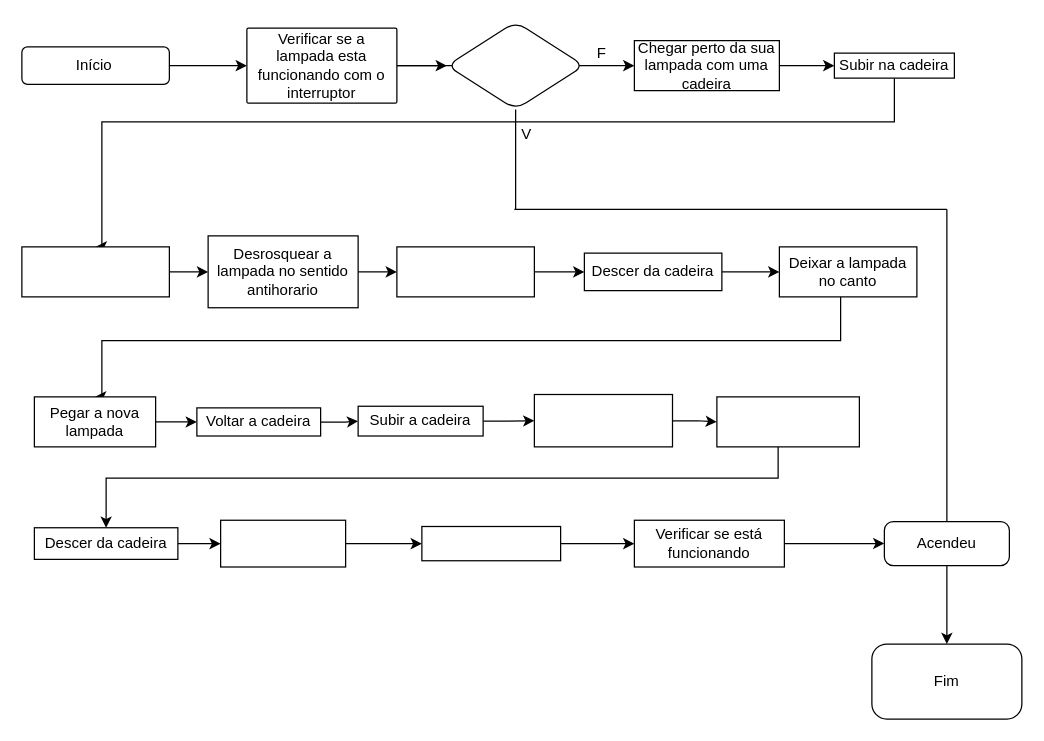
The diagram is 1044 pixels wide and 741 high, and some of its shapes have lost their labels. Each missing label, with the box of its shape:
A lampada acendeu ?: (446, 21, 584, 109)
Colocar a lampada no soquete: (533, 393, 672, 447)
Girar a lampada no sentido horario: (716, 396, 859, 447)
Ir em direção do interruptor: (219, 519, 346, 567)
Ligar o interruptor: (421, 525, 561, 561)
Segurar a lampada com a mão direita: (21, 246, 169, 297)
Tirar a lampada do soquete: (396, 246, 534, 297)
